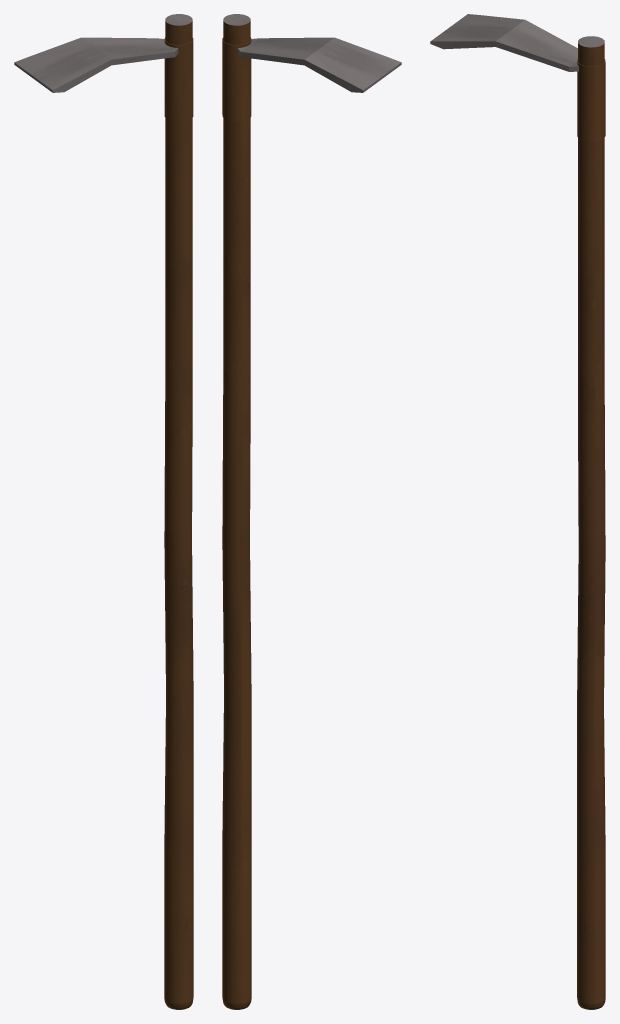
The model's file is hoe.fbx.
3 views of the same model, side by side, from view 1: azimuth 30°, elevation 25°; view 2: azimuth 150°, elevation 25°; view 3: azimuth 330°, elevation 25° (orthographic). The views are drawn at different scales.
Parts seen in each view (by area): view 1: Cylinder; view 2: Cylinder; view 3: Cylinder.
Boxes of the visible parts, x1=… form: Cylinder: x1=14, y1=14, x2=193, y2=1009; Cylinder: x1=222, y1=14, x2=401, y2=1009; Cylinder: x1=430, y1=14, x2=605, y2=1009.
Size of the model in its own units: 0.5307 by 3.16 by 0.223.
